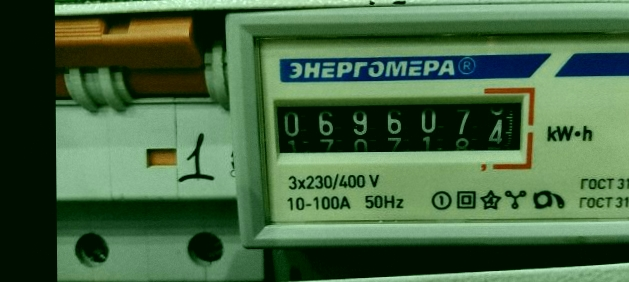0: (281, 108, 301, 137), (417, 106, 437, 133)
4: (485, 117, 504, 145)
6: (384, 106, 403, 134), (315, 109, 334, 136)
7: (452, 106, 472, 136)
9: (349, 109, 368, 137)
screen: (260, 83, 540, 172)
